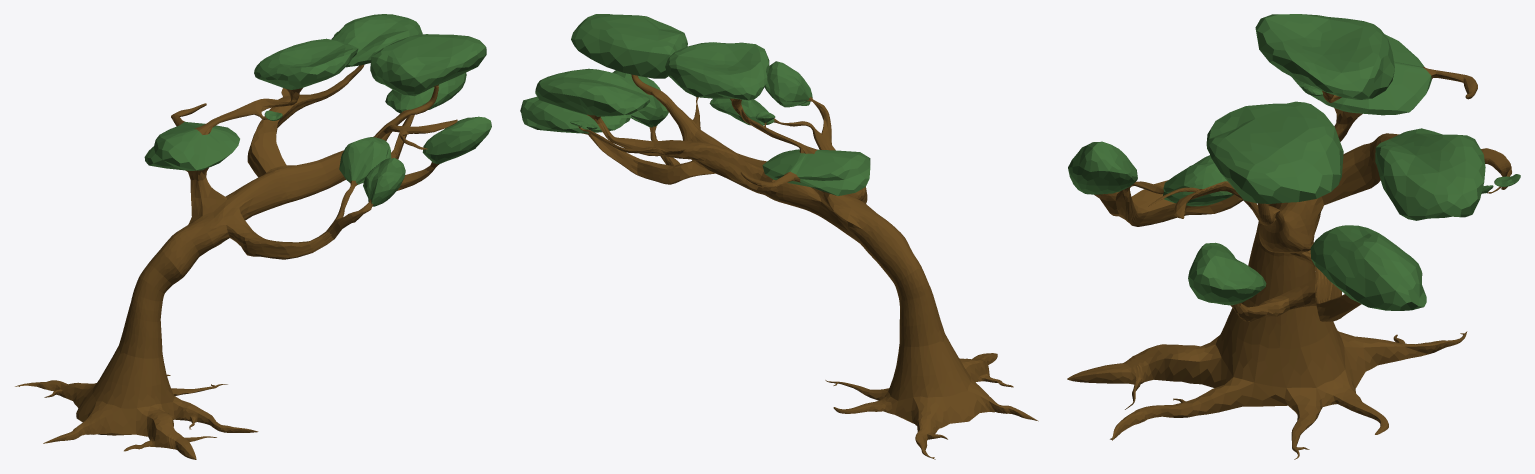
File: WindTree.fbx
3 renders of one model, left to right at view 1: azimuth 30°, elevation 25°; view 2: azimuth 150°, elevation 25°; view 3: azimuth 270°, elevation 25°, orthographic. The views are drawn at different scales.
Parts seen in each view (by area): view 1: tree_base; view 2: tree_base; view 3: tree_base.
Part boxes in pixels (left/top/right/bottom): tree_base: left=15, top=14, right=491, bottom=459; tree_base: left=520, top=14, right=1038, bottom=459; tree_base: left=1067, top=14, right=1520, bottom=459.
Size of the model in its own units: 529 by 334 by 271.
